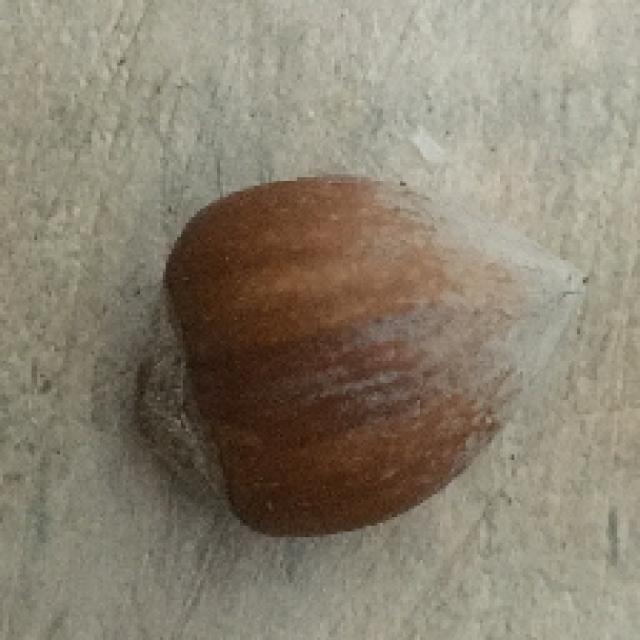QualityHazelnut: (132, 177, 591, 538)
